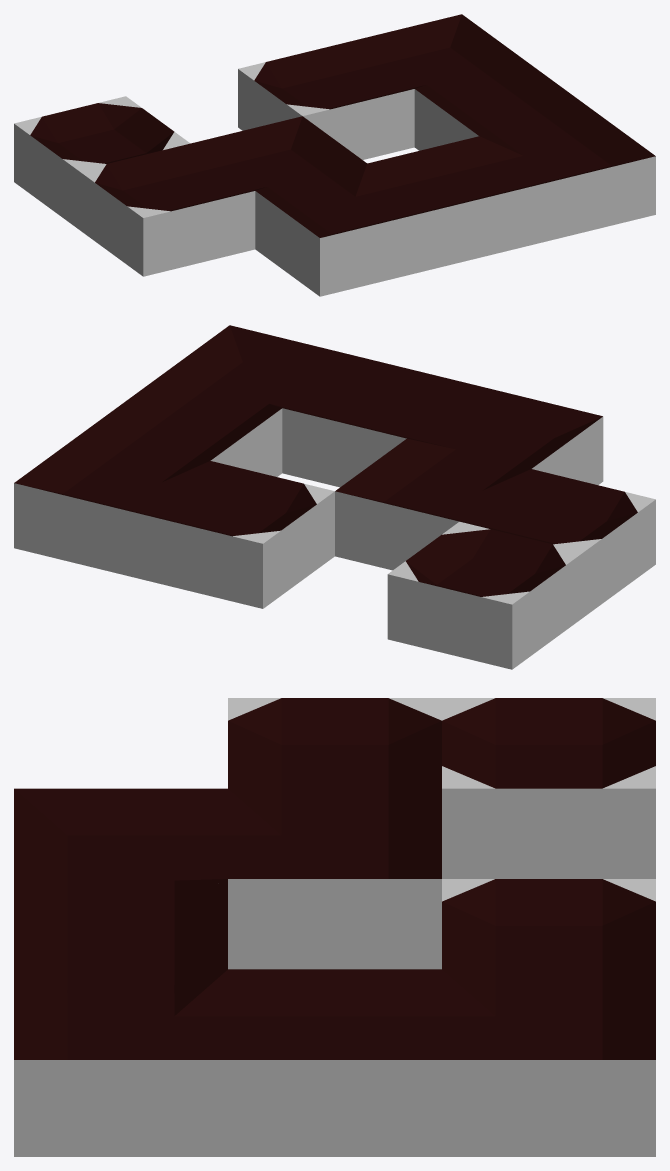
The model's file is 31f_path.obj.
3 renders of one model, top to bottom at view 1: azimuth 30°, elevation 25°; view 2: azimuth 150°, elevation 25°; view 3: azimuth 270°, elevation 25°, orthographic. The views are drawn at different scales.
Parts seen in each view (by area): view 1: foil.ending.1.3_ending.123, foil.corner.2.2_corner.311, foil.through.3.2_through.059, foil.ending.3.4_ending.124, foil.corner.4.2_corner.313, foil.hole.1.4_Cube.063, foil.through.4.3_through.060, foil.corner.4.4_corner.314, foil.corner.2.3_corner.312; view 2: foil.hole.1.4_Cube.063, foil.ending.3.4_ending.124, foil.corner.4.4_corner.314, foil.through.3.2_through.059, foil.corner.2.3_corner.312, foil.ending.1.3_ending.123, foil.corner.2.2_corner.311, foil.through.4.3_through.060, foil.corner.4.2_corner.313; view 3: foil.through.4.3_through.060, foil.hole.1.4_Cube.063, foil.corner.4.2_corner.313, foil.corner.4.4_corner.314, foil.corner.2.3_corner.312, foil.corner.2.2_corner.311, foil.ending.1.3_ending.123, foil.ending.3.4_ending.124, foil.through.3.2_through.059.
Part boxes in pixels (x1,y1,x2,y2): foil.ending.1.3_ending.123: (78,143,255,276); foil.corner.2.2_corner.311: (255,163,431,296); foil.through.3.2_through.059: (367,136,543,269); foil.ending.3.4_ending.124: (238,41,414,159); foil.corner.4.2_corner.313: (479,109,655,241); foil.hole.1.4_Cube.063: (14,96,190,228); foil.through.4.3_through.060: (414,61,590,150); foil.corner.4.4_corner.314: (350,14,526,96); foil.corner.2.3_corner.312: (191,116,366,198); foil.hole.1.4_Cube.063: (387,521,583,669); foil.ending.3.4_ending.124: (138,461,334,608); foil.corner.4.4_corner.314: (14,430,209,578); foil.through.3.2_through.059: (282,355,478,487); foil.corner.2.3_corner.312: (335,439,530,570); foil.ending.1.3_ending.123: (462,469,655,616); foil.corner.2.2_corner.311: (407,386,603,484); foil.through.4.3_through.060: (86,378,282,476); foil.corner.4.2_corner.313: (158,325,353,416); foil.through.4.3_through.060: (228,969,441,1156); foil.hole.1.4_Cube.063: (442,698,655,878); foil.corner.4.2_corner.313: (14,969,227,1156); foil.corner.4.4_corner.314: (442,969,655,1156); foil.corner.2.3_corner.312: (228,788,441,969); foil.corner.2.2_corner.311: (14,788,227,903); foil.ending.1.3_ending.123: (228,698,441,812); foil.ending.3.4_ending.124: (442,879,655,993); foil.through.3.2_through.059: (14,879,227,993).
Size of the model in its own units: 8 by 1 by 6.
